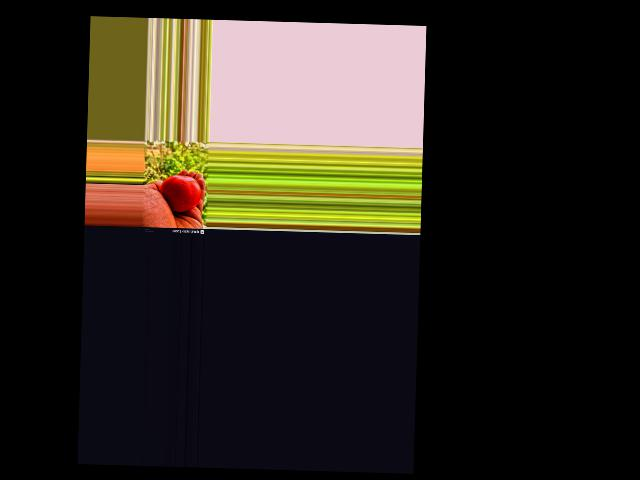tomato: (159, 175, 201, 212)
